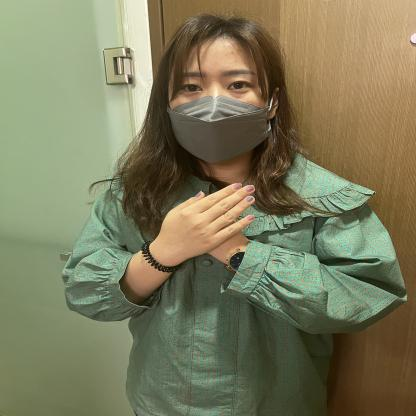Grieve: (70, 117, 308, 306)
